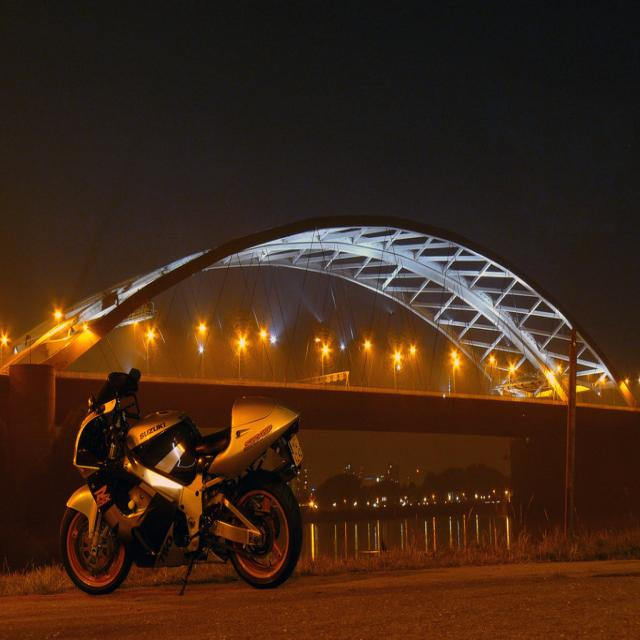Motorbike: (54, 358, 325, 594)
